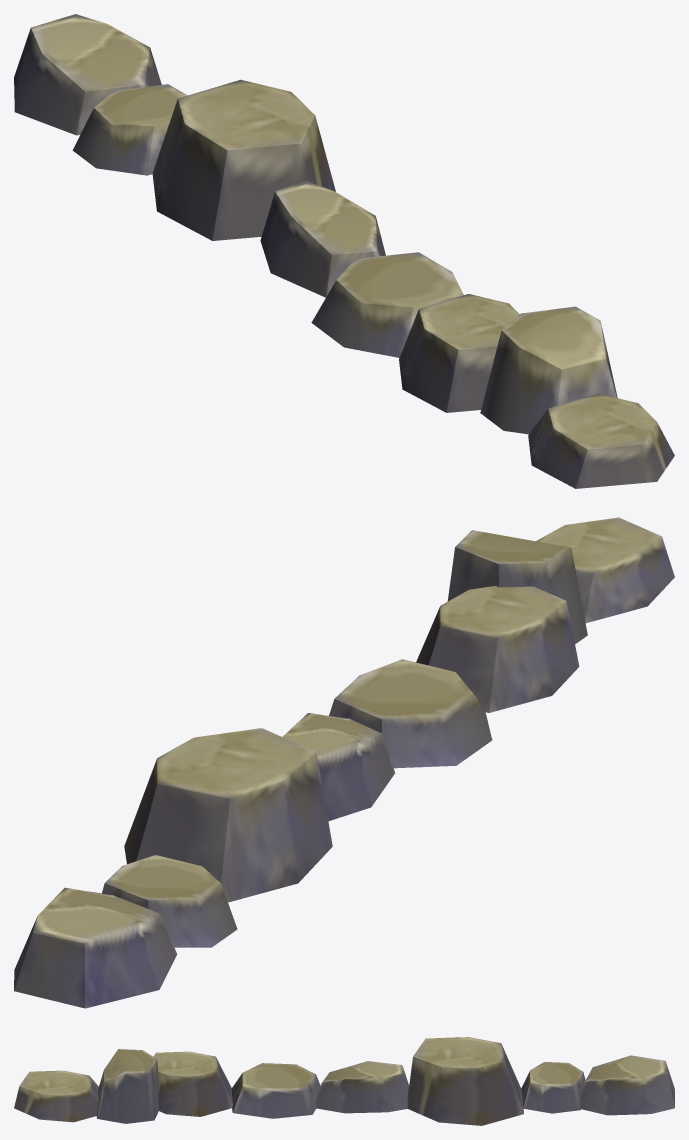
File: scenes_construction_siderock01.FBX
3 renders of one model, top to bottom at view 1: azimuth 30°, elevation 25°; view 2: azimuth 150°, elevation 25°; view 3: azimuth 270°, elevation 25°, orthographic. The views are drawn at different scales.
Parts seen in each view (by area): view 1: scenes_construction_siderock01; view 2: scenes_construction_siderock01; view 3: scenes_construction_siderock01.
Boxes of the visible parts, x1,y1,x2,y2 form: scenes_construction_siderock01: (14, 14, 674, 488); scenes_construction_siderock01: (14, 517, 674, 1008); scenes_construction_siderock01: (14, 1037, 674, 1125).
Bounding box in the file's own units: 134 × 67.03 × 806.
